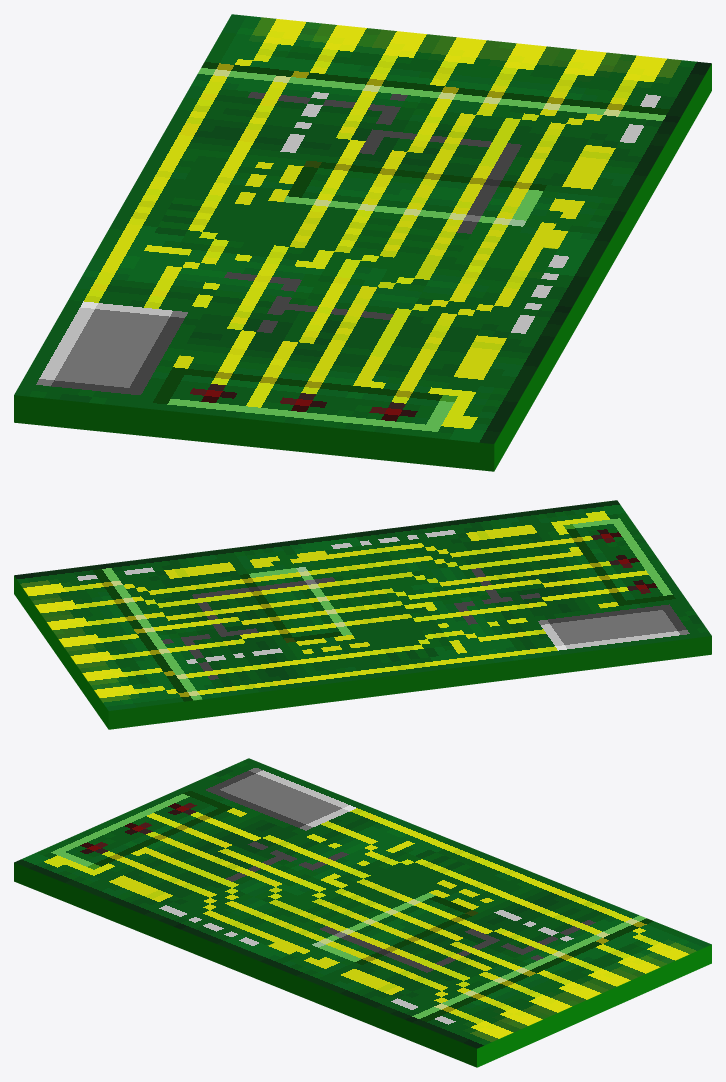
File: primary_083.glb
3 renders of one model, top to bottom at view 1: azimuth 30°, elevation 25°; view 2: azimuth 150°, elevation 25°; view 3: azimuth 270°, elevation 25°, orthographic. The views are drawn at different scales.
Parts seen in each view (by area): view 1: Object; view 2: Object; view 3: Object.
Boxes of the visible parts, x1,y1,x2,y2 form: Object: (14, 14, 711, 471); Object: (14, 500, 711, 729); Object: (14, 758, 711, 1067).
Size of the model in its own units: 0.2968 by 0.00905 by 0.3013.
Materials: 6 (6 with a texture image).
